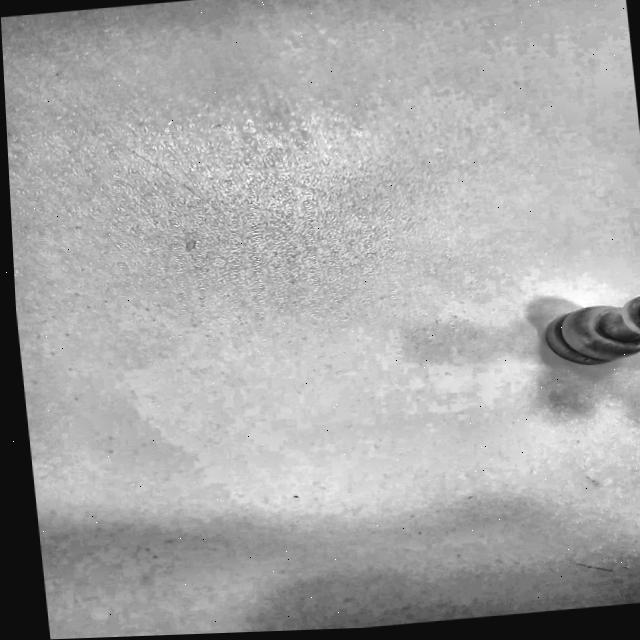white-pawn: (535, 252, 640, 420)
